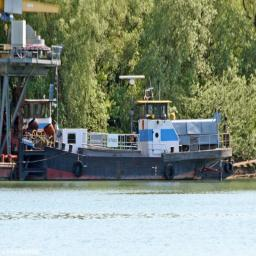tugboat: (12, 75, 238, 184)
